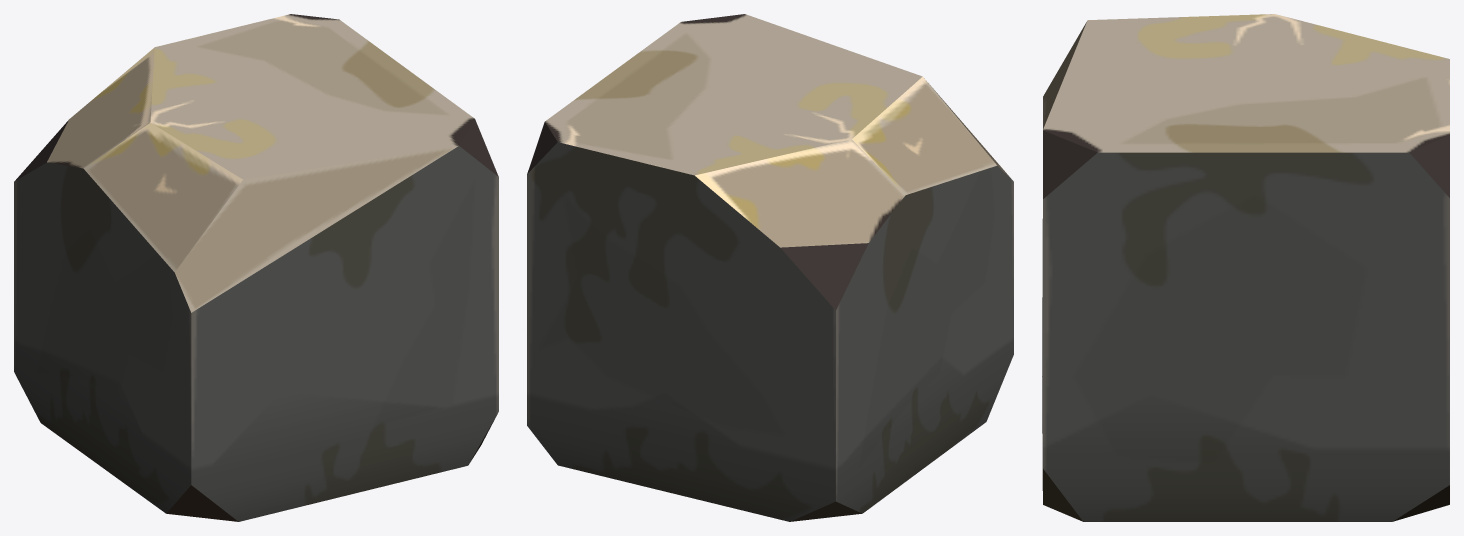
The model's file is Rock_04_003.fbx.
The picture shows the model from 3 angles, left to right: view 1: azimuth 30°, elevation 25°; view 2: azimuth 150°, elevation 25°; view 3: azimuth 270°, elevation 25°; orthographic projection. The views are drawn at different scales.
Parts seen in each view (by area): view 1: Rock_04_003; view 2: Rock_04_003; view 3: Rock_04_003.
Part boxes in pixels (x1,y1,x2,y2): Rock_04_003: (14,14,498,521); Rock_04_003: (527,14,1013,521); Rock_04_003: (1042,14,1449,521).
Bounding box in the file's own units: 2 × 2 × 2.
1 material, 1 textured.
